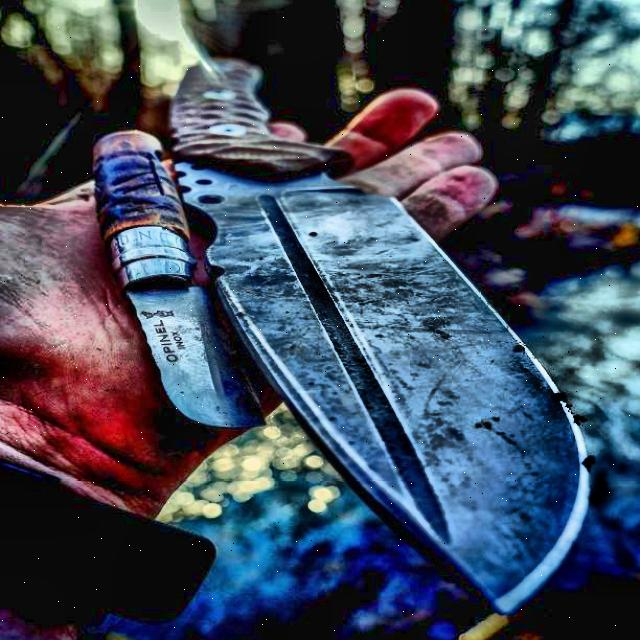knife: (178, 59, 601, 609)
